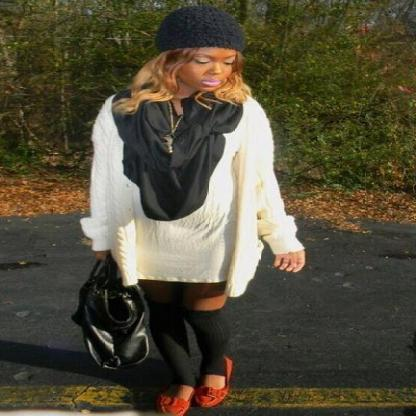bag: (58, 250, 153, 386)
hat: (150, 0, 249, 58)
jacket: (80, 96, 304, 296)
shoe: (142, 375, 228, 415)
skirt: (170, 108, 182, 133)
